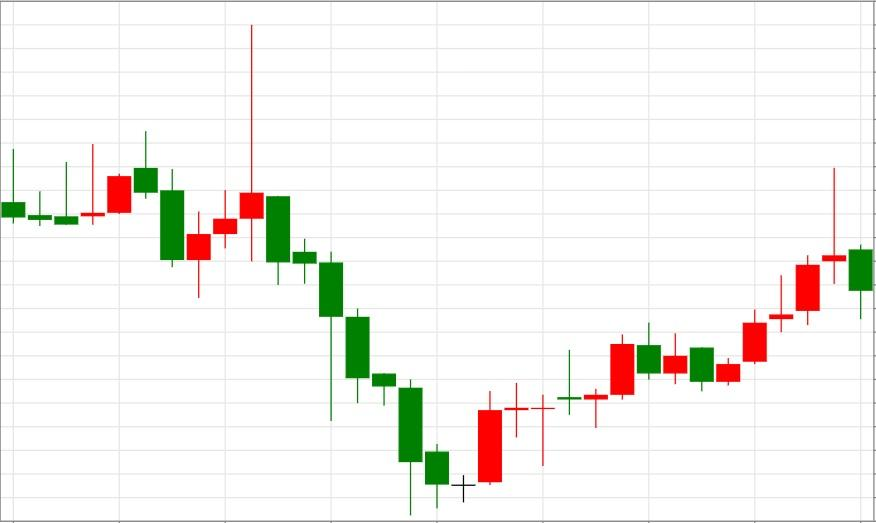morning_star_rise: (238, 24, 503, 514)
